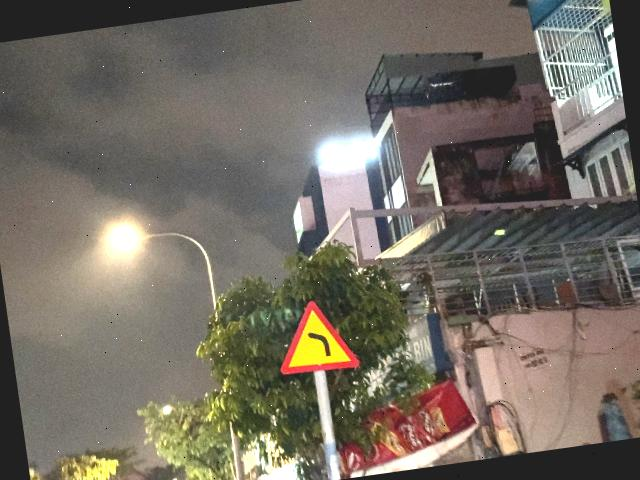cho-ngoat-nguy-hiem-ben-trai: (270, 294, 360, 377)
